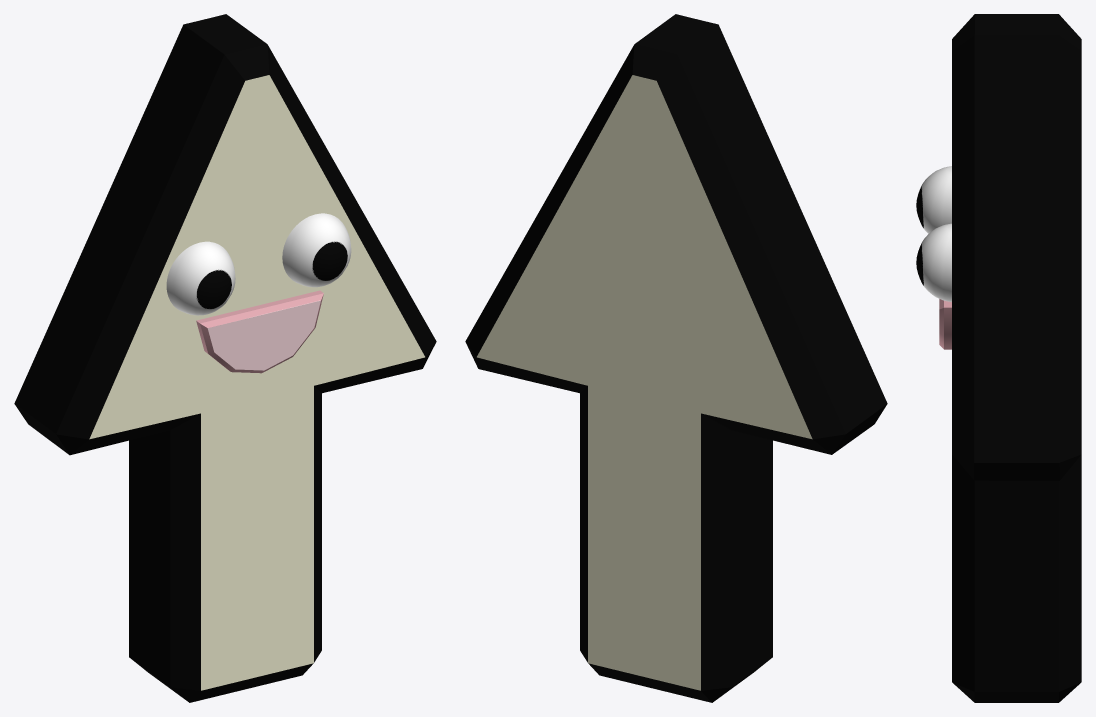
File: Cursor 1.fbx
3 renders of one model, left to right at view 1: azimuth 30°, elevation 25°; view 2: azimuth 150°, elevation 25°; view 3: azimuth 270°, elevation 25°, orthographic.
Visible parts, largest first — view 1: Cursor; view 2: Cursor; view 3: Cursor.
Part boxes in pixels (x1,y1,x2,y2): Cursor: (14,14,436,702); Cursor: (465,14,887,702); Cursor: (916,14,1081,702).
Bounding box in the file's own units: 45.17 × 72.58 × 16.73.
Materials: 1 (1 with a texture image).
